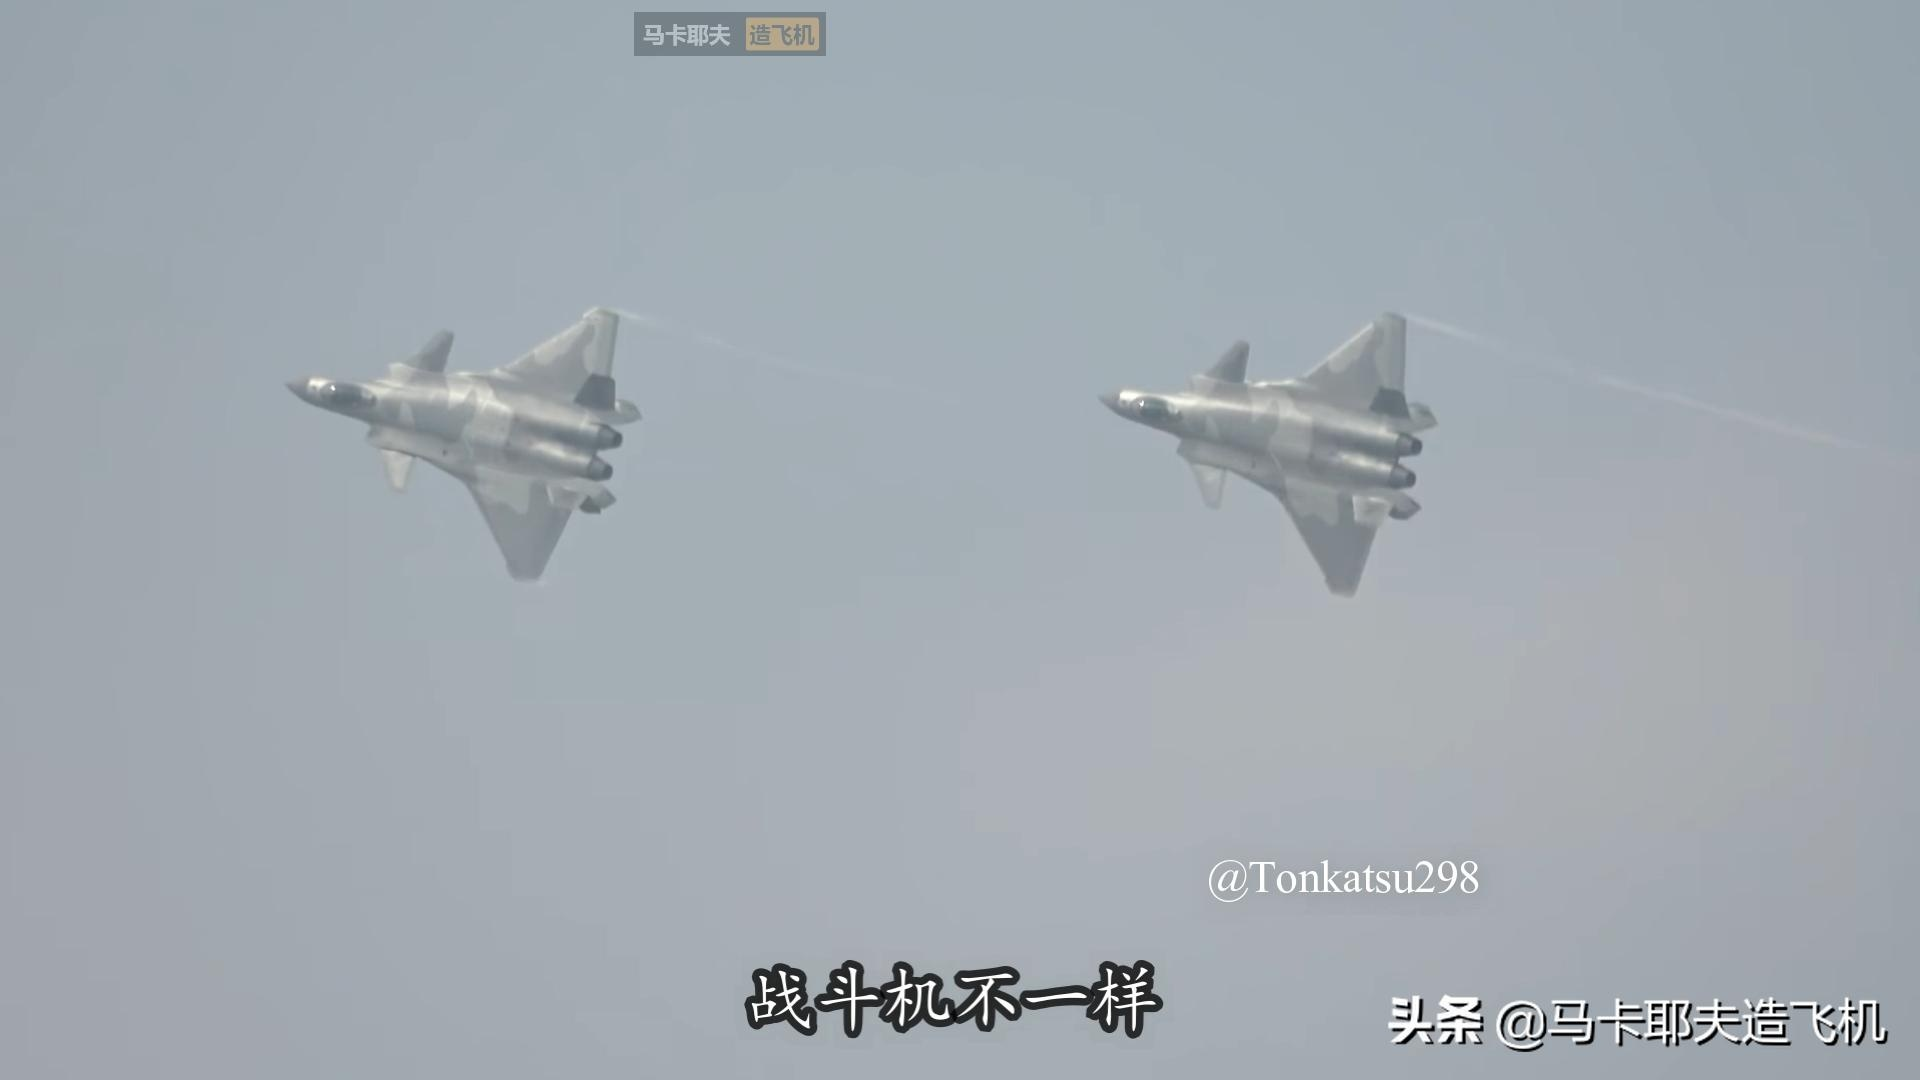J20: (282, 306, 644, 582), (1096, 313, 1440, 599)
